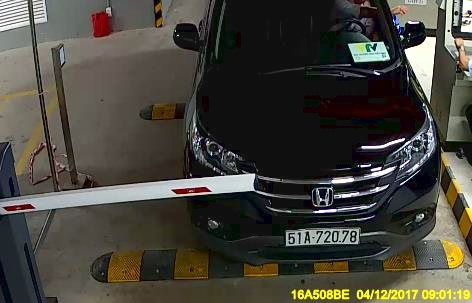plate: (282, 222, 363, 249)
